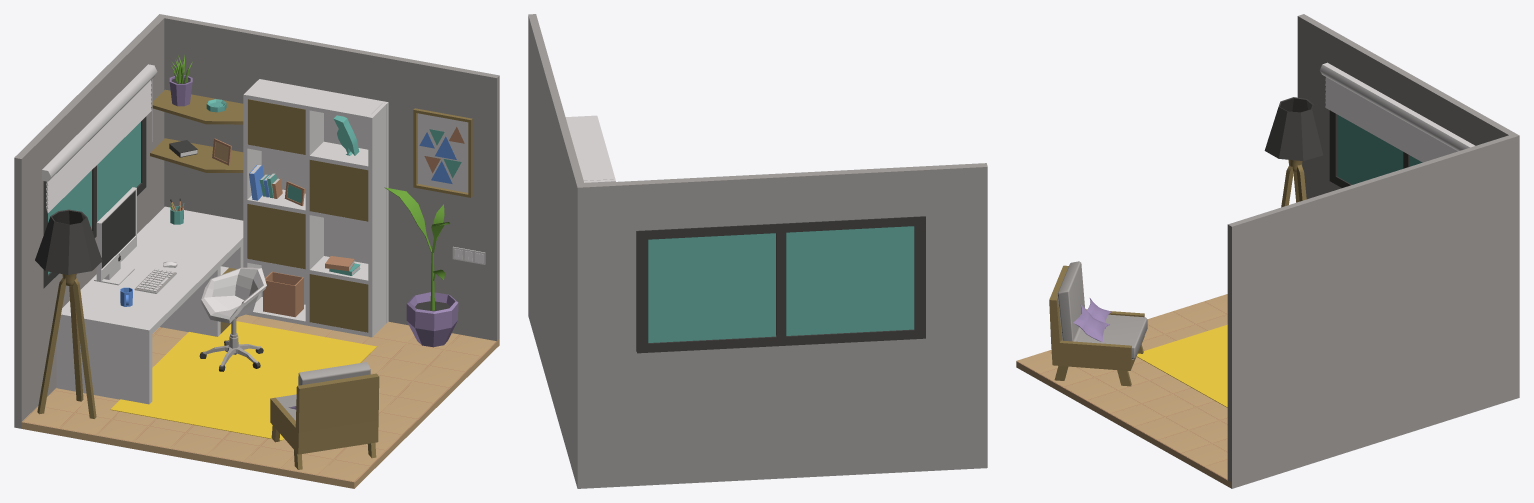
Rendered from Office.fbx.
The picture shows the model from 3 angles, left to right: view 1: azimuth 30°, elevation 25°; view 2: azimuth 150°, elevation 25°; view 3: azimuth 270°, elevation 25°; orthographic projection. The views are drawn at different scales.
Visible parts, largest first — view 1: Office_Base, Office_Floortile, Office_Cupboard, Office_Table, Office_Carpet, Office_Doors, Office, Office_Lamp, Office_Picture, Office_Window, Office_Chair, Office_Flower (+8 smaller); view 2: Office_Base, Office_Window, Office_Cupboard; view 3: Office_Base, Office_Floortile, Office, Office_Carpet, Office_Window, Office_Lamp, Office_Blinds, Office_Cornice, Office_Pillows.
Part boxes in pixels (left/top/right/bottom): Office_Base: left=14, top=14, right=499, bottom=488; Office_Floortile: left=23, top=314, right=496, bottom=481; Office_Cupboard: left=243, top=79, right=388, bottom=337; Office_Table: left=56, top=206, right=243, bottom=404; Office_Carpet: left=110, top=321, right=376, bottom=440; Office_Doors: left=247, top=99, right=368, bottom=332; Office: left=169, top=55, right=379, bottom=469; Office_Lamp: left=35, top=209, right=102, bottom=418; Office_Picture: left=413, top=108, right=472, bottom=197; Office_Window: left=43, top=116, right=146, bottom=288; Office_Chair: left=199, top=267, right=266, bottom=371; Office_Flower: left=384, top=187, right=458, bottom=347; Office_Base: left=528, top=14, right=987, bottom=488; Office_Window: left=636, top=216, right=925, bottom=353; Office_Cupboard: left=565, top=115, right=615, bottom=183; Office_Base: left=1016, top=14, right=1519, bottom=488; Office_Floortile: left=1017, top=294, right=1227, bottom=480; Office: left=1049, top=261, right=1147, bottom=386; Office_Carpet: left=1136, top=324, right=1227, bottom=407; Office_Window: left=1329, top=110, right=1422, bottom=187; Office_Lamp: left=1264, top=97, right=1328, bottom=207; Office_Blinds: left=1325, top=77, right=1457, bottom=162; Office_Cornice: left=1319, top=62, right=1475, bottom=151; Office_Pillows: left=1073, top=298, right=1111, bottom=341.
Bounding box in the file's own units: 700 × 402 × 700.
